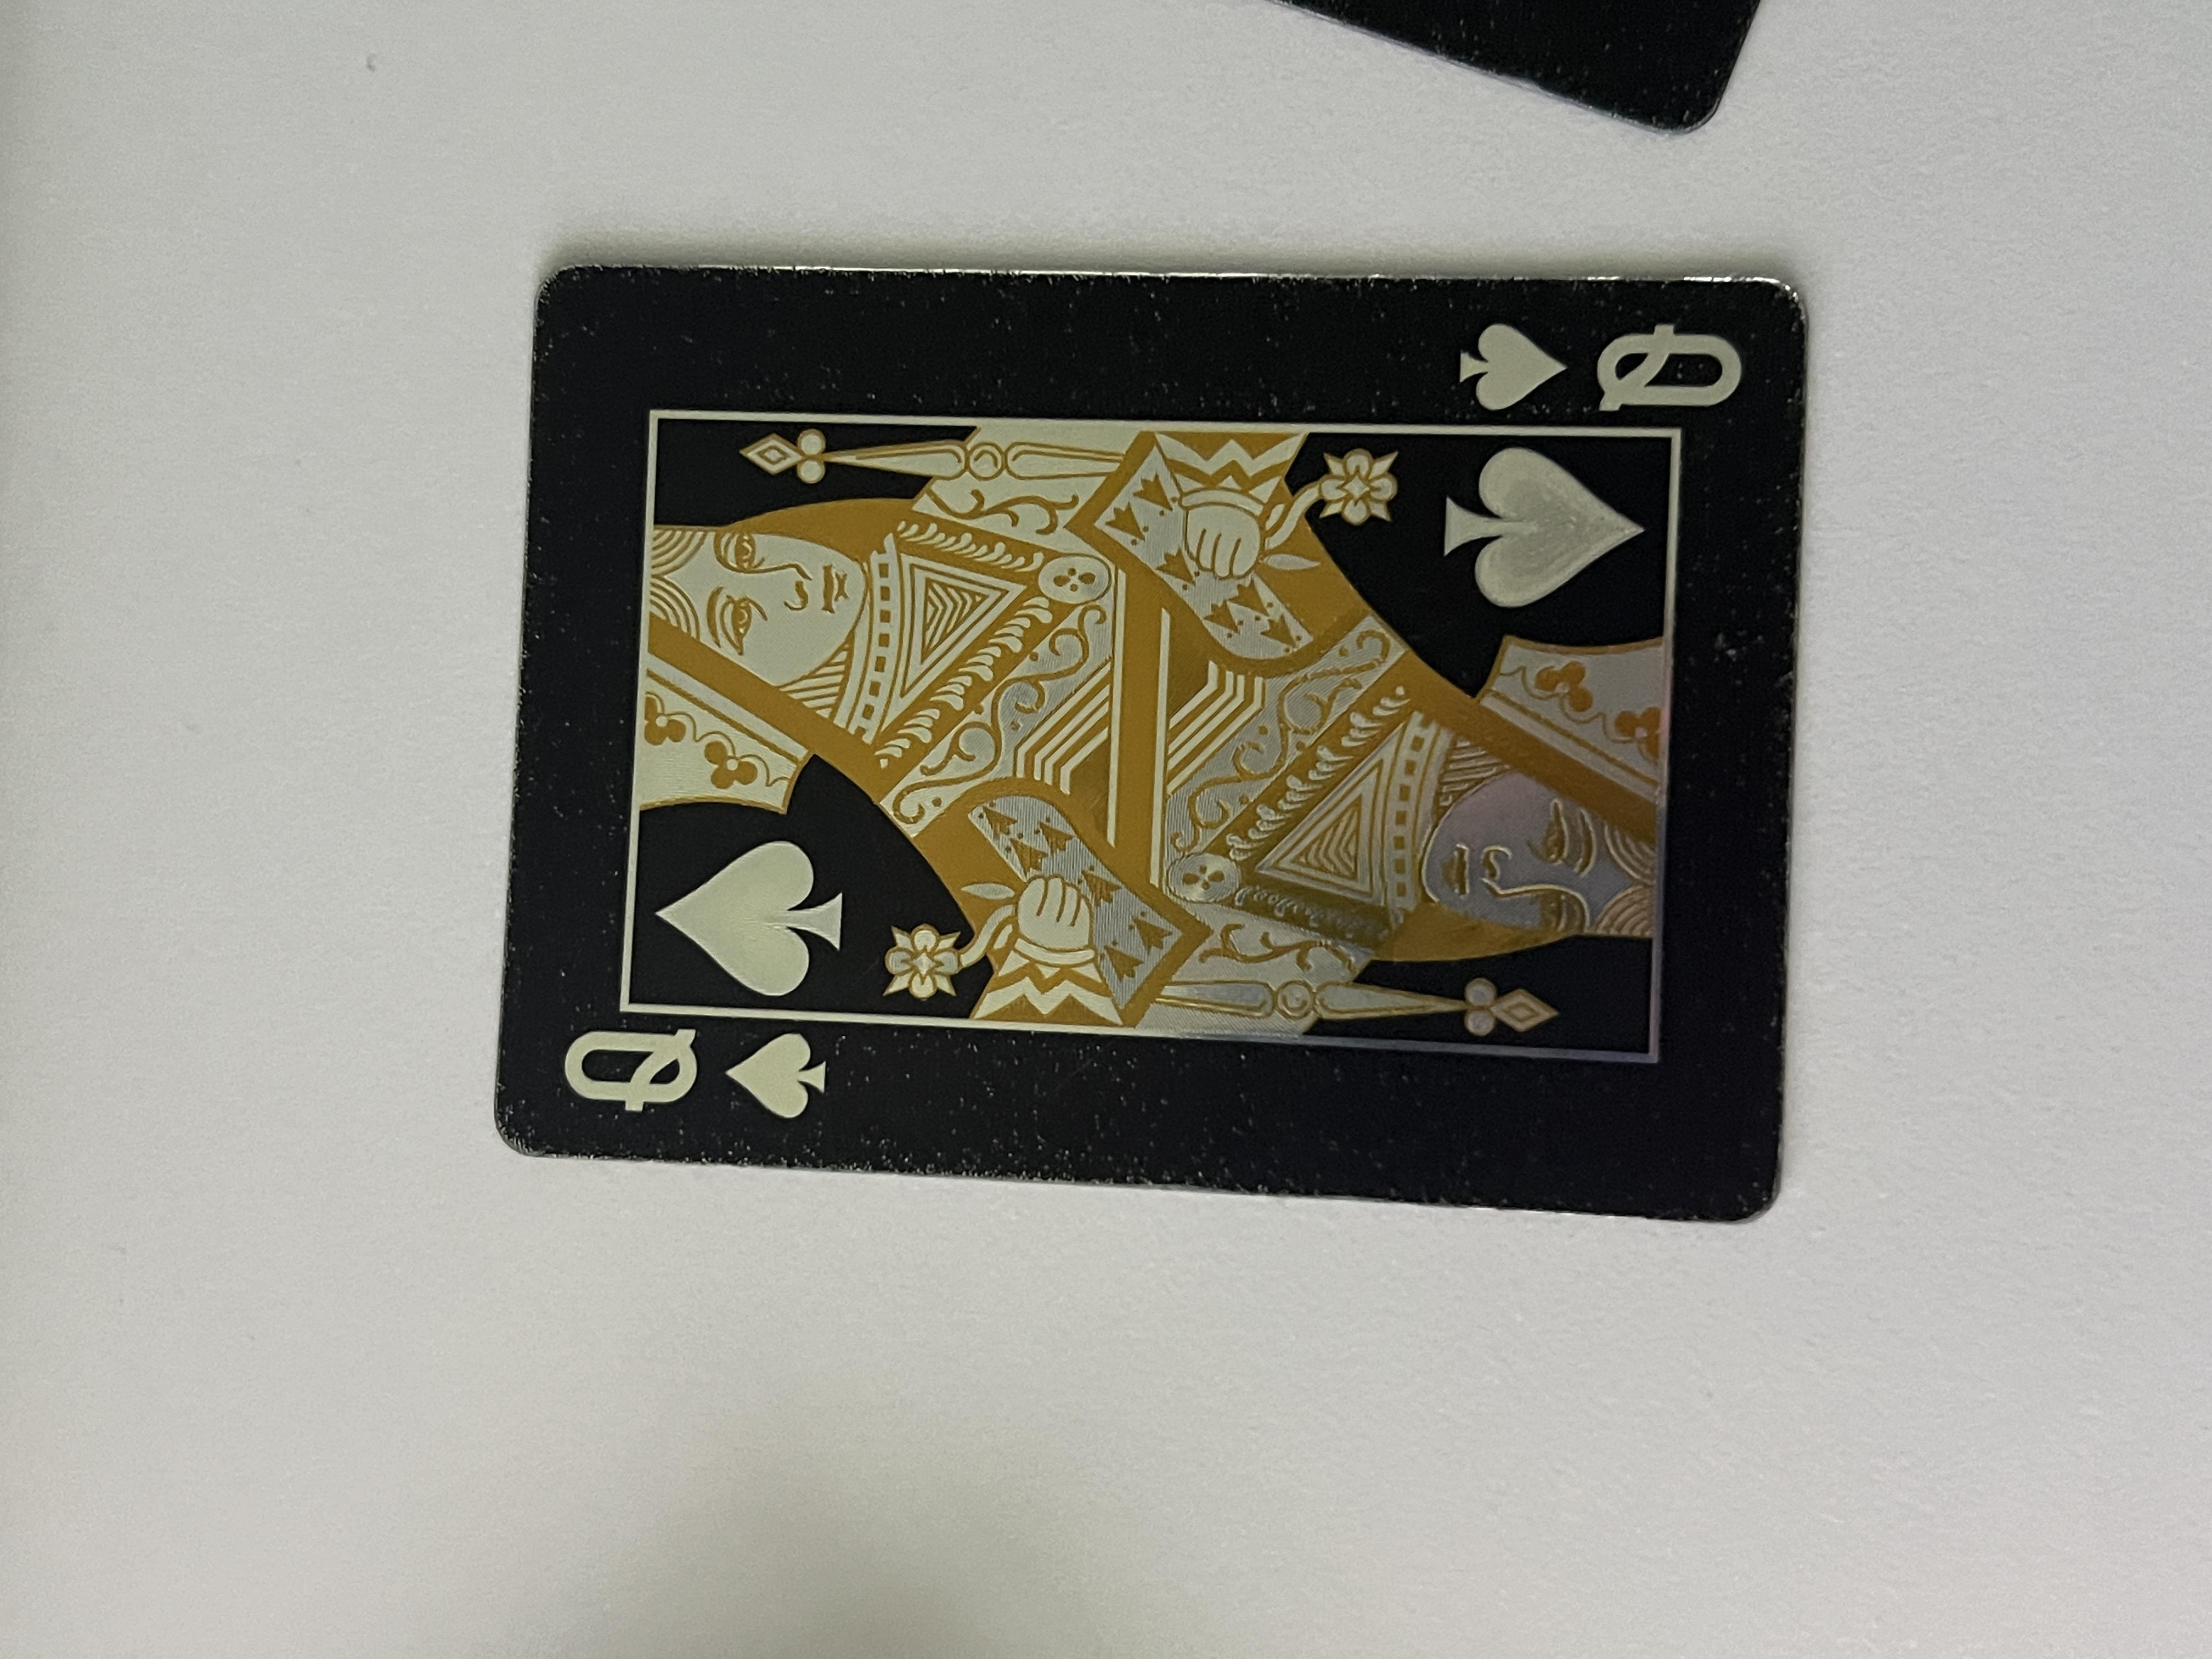QS: (1635, 1079, 1815, 1317), (712, 408, 867, 650)
